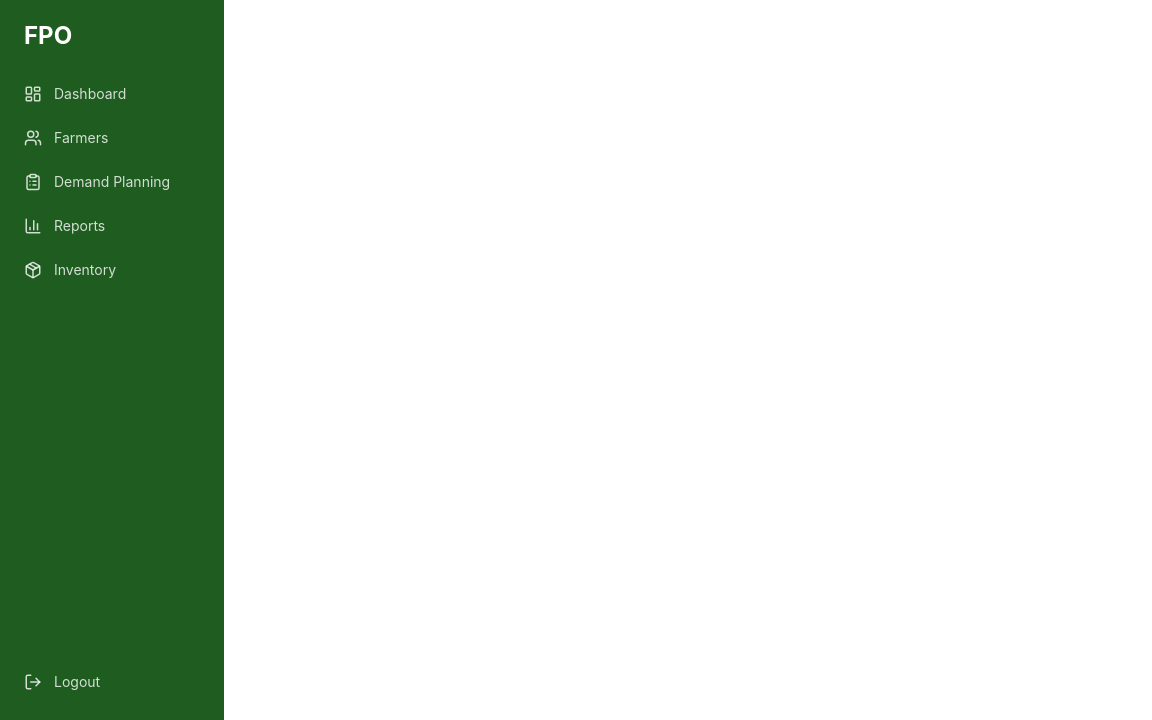
Test: Sidebar › shows confirmation modal when logout is clicked
Step 1. Click the button "Logout" → click(112, 682), box [0,660,224,704]
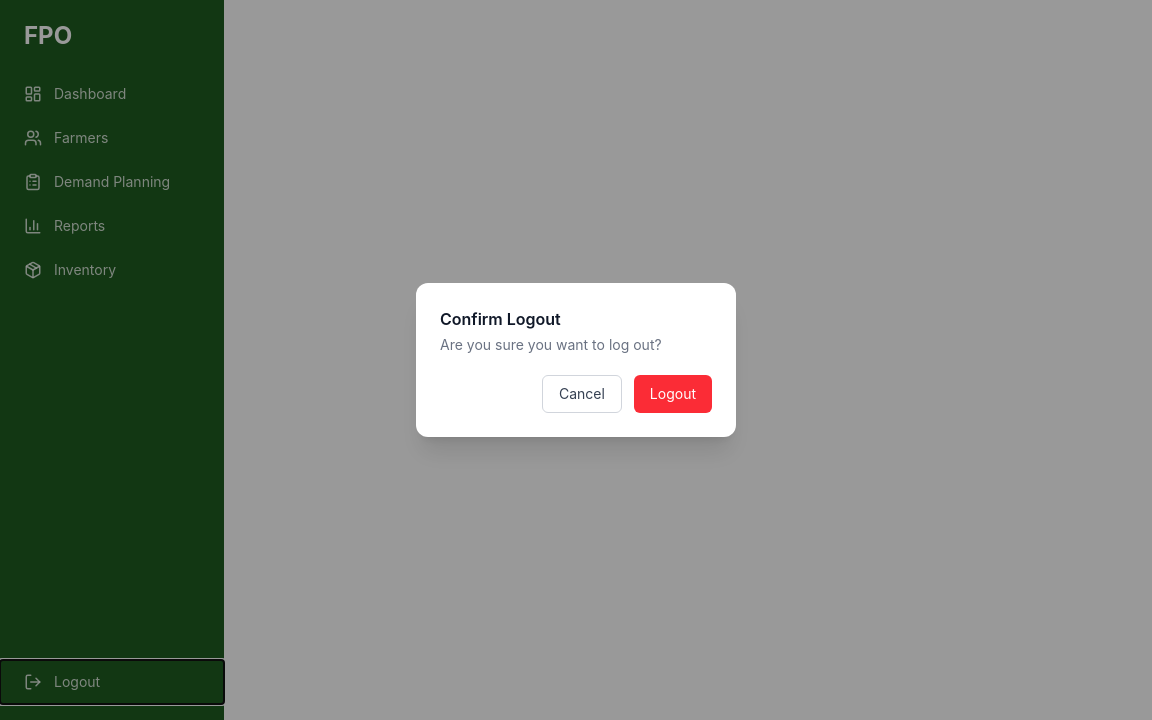
Result: the heading "Confirm Logout" is shown at [440,309,561,329]
Result: the text "Are you sure you want to log out?" is shown at [440,336,662,353]
Result: the button "Cancel" is shown at [542,375,622,413]
